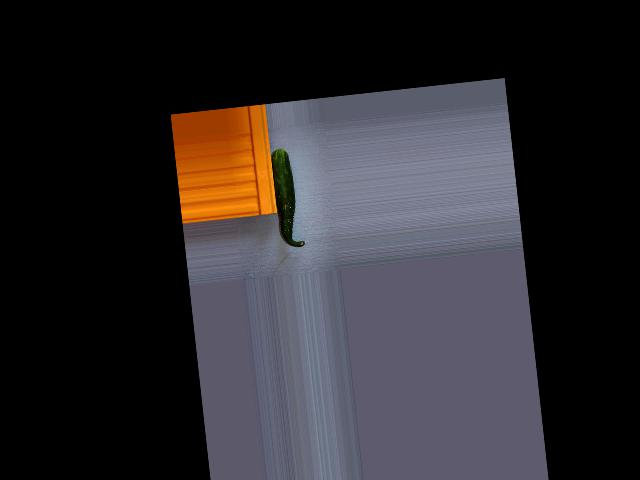cucumber: (270, 148, 305, 249)
